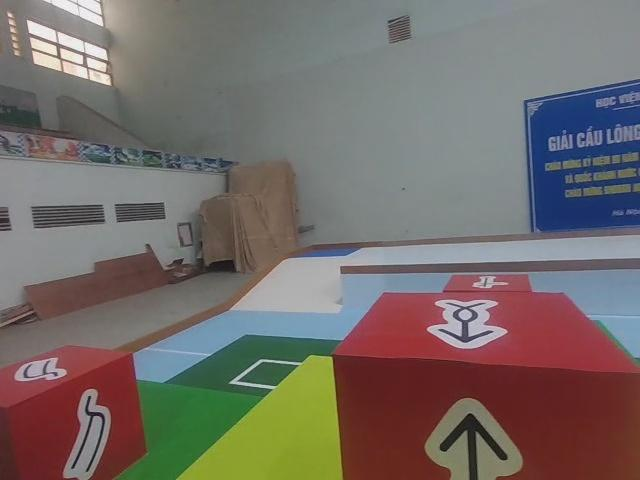R2 Real: (328, 287, 640, 480), (0, 340, 150, 480)
